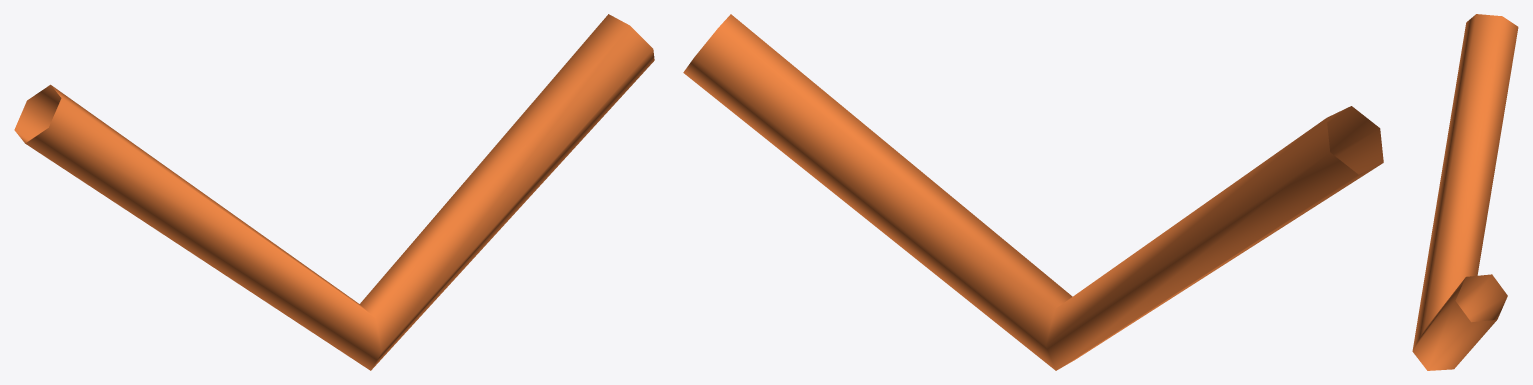
The model's file is Damage_LooseWire_B.glb.
3 renders of one model, left to right at view 1: azimuth 30°, elevation 25°; view 2: azimuth 150°, elevation 25°; view 3: azimuth 270°, elevation 25°, orthographic. The views are drawn at different scales.
Visible parts, largest first — view 1: Damage_LooseWire_B; view 2: Damage_LooseWire_B; view 3: Damage_LooseWire_B.
Boxes of the visible parts, box(x1,y1,x2,y2) form: Damage_LooseWire_B: box(14, 14, 654, 370); Damage_LooseWire_B: box(683, 14, 1383, 370); Damage_LooseWire_B: box(1412, 14, 1518, 370).
Bounding box in the file's own units: 0.5303 × 0.2589 × 0.0994.
